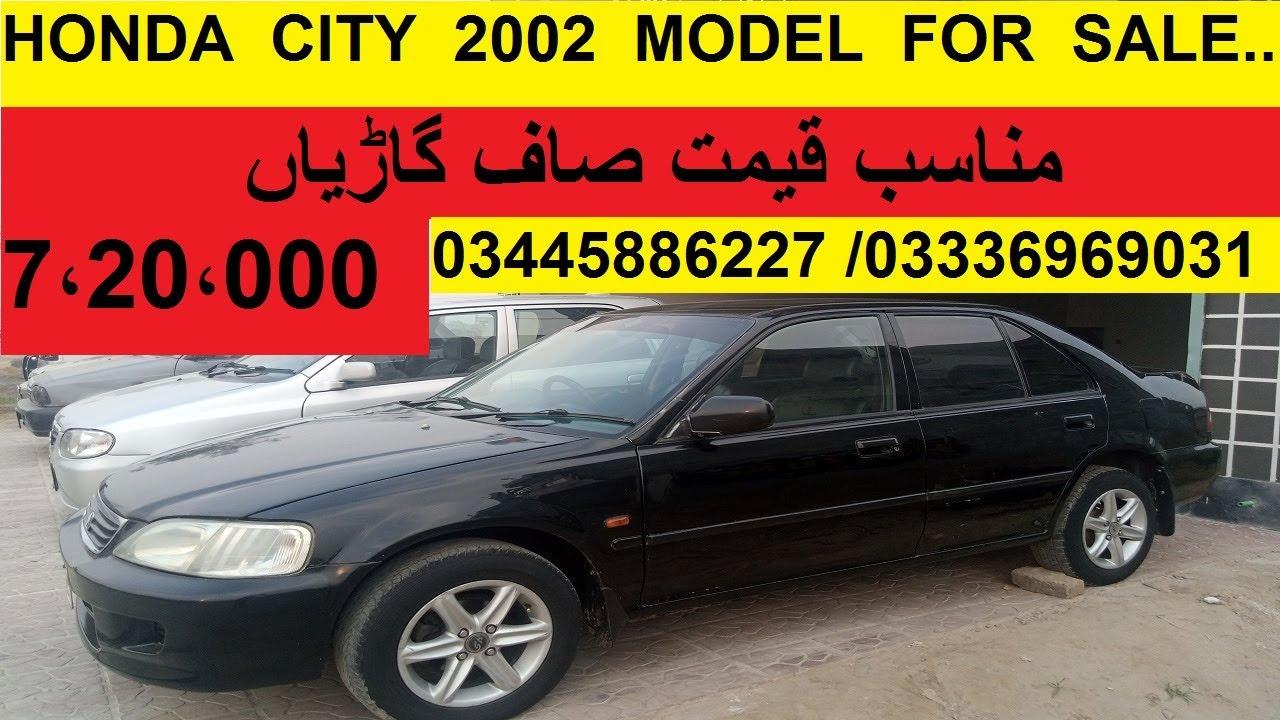windshield: (426, 306, 746, 434)
